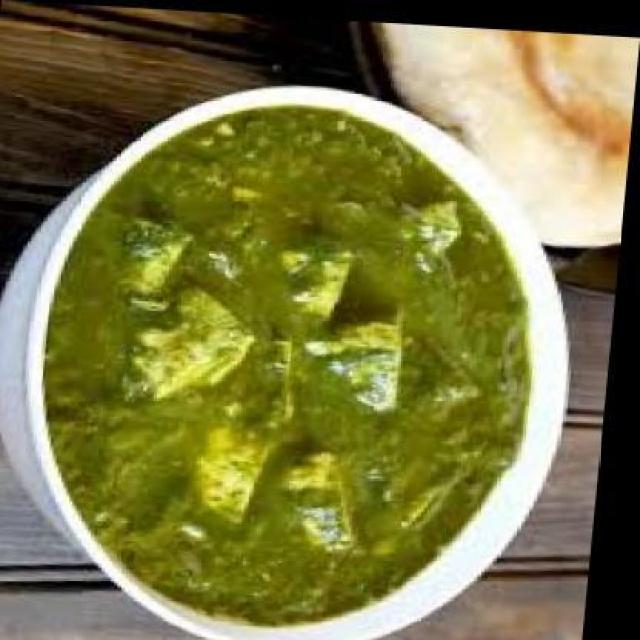palak_paneer: (29, 91, 558, 634)
